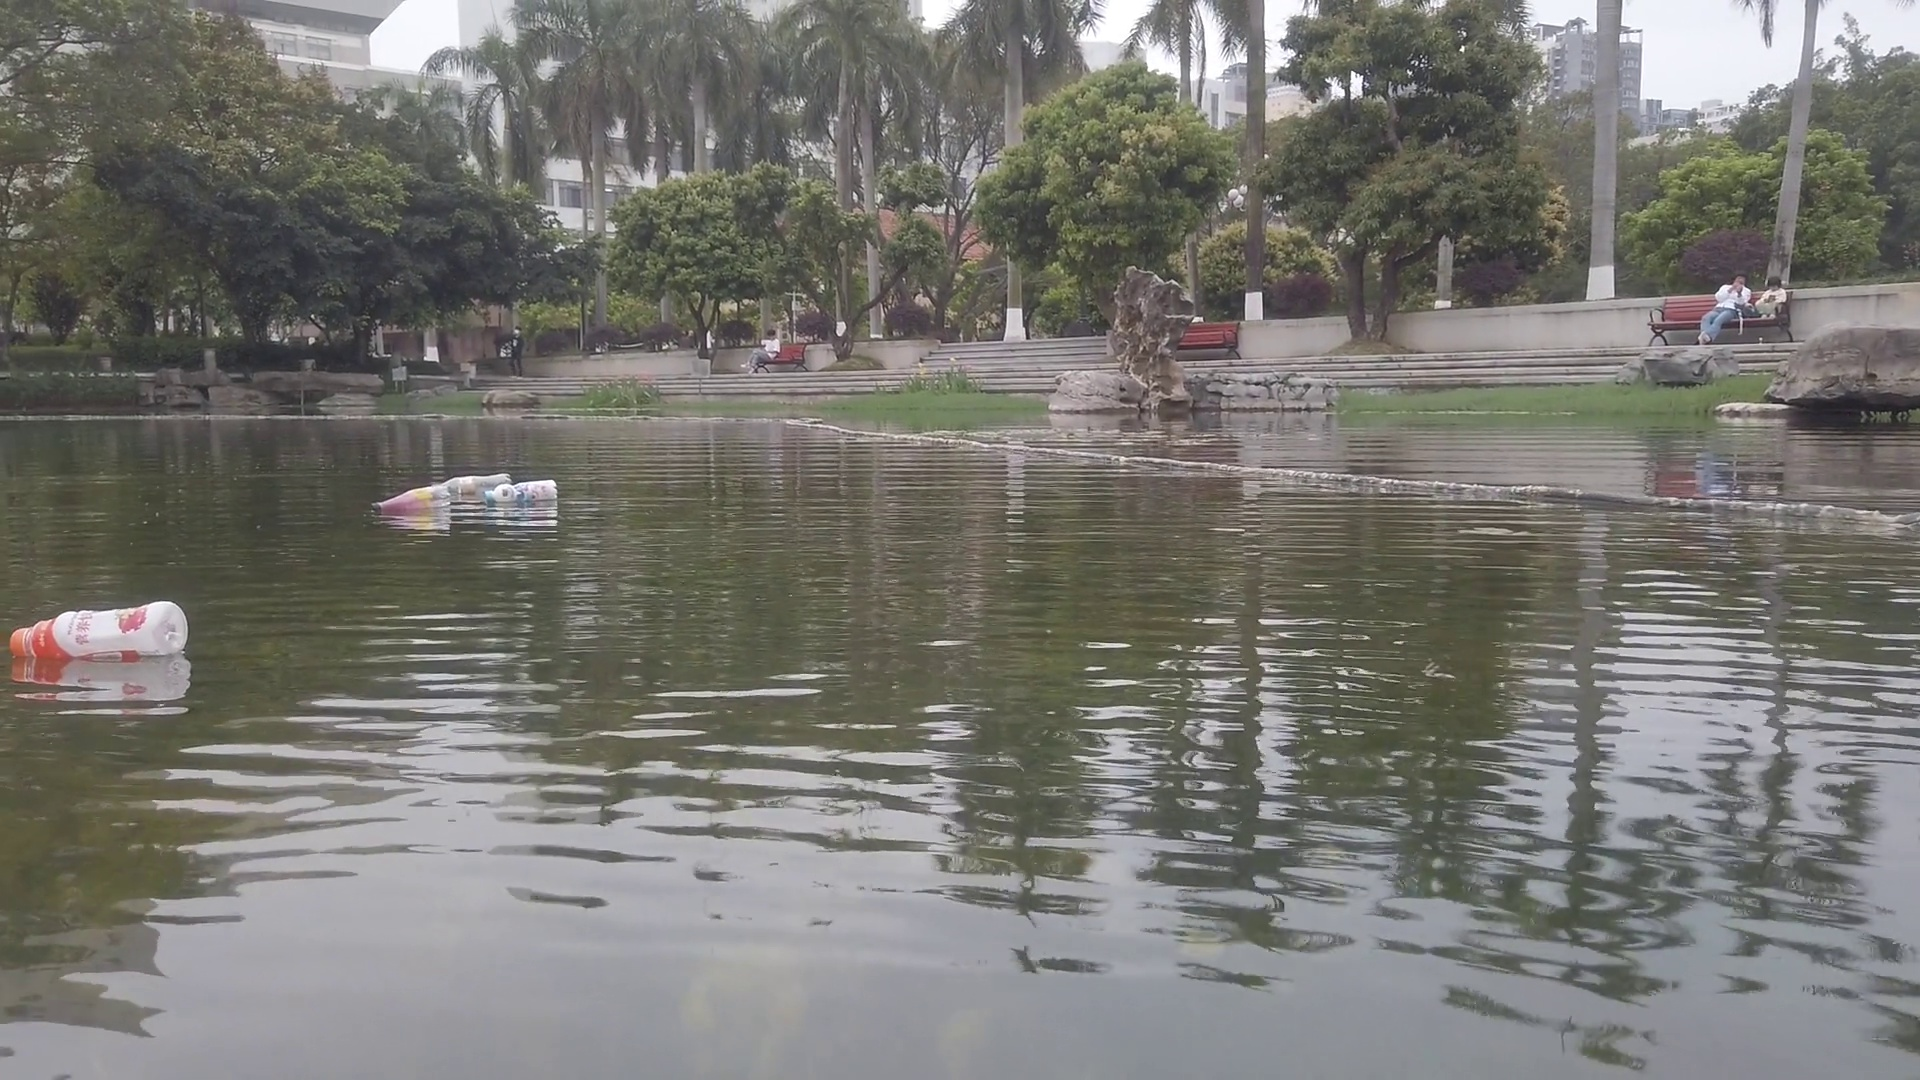bottle: (8, 600, 190, 657), (433, 472, 512, 498), (373, 487, 454, 512), (487, 483, 560, 502)
